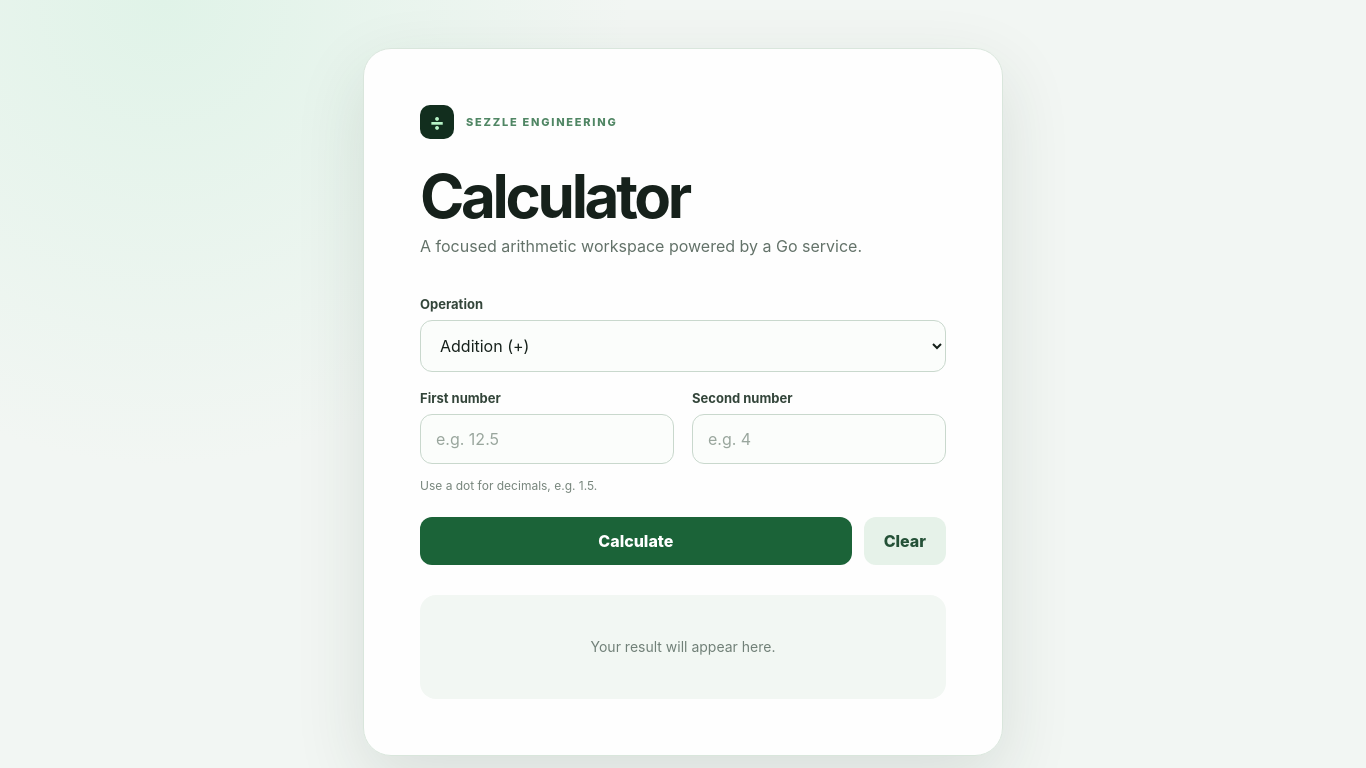
Calculator app › shows a friendly division by zero validation error
Type "10" into the field labelled "First number" at point(547, 439), box [420,414,674,464]
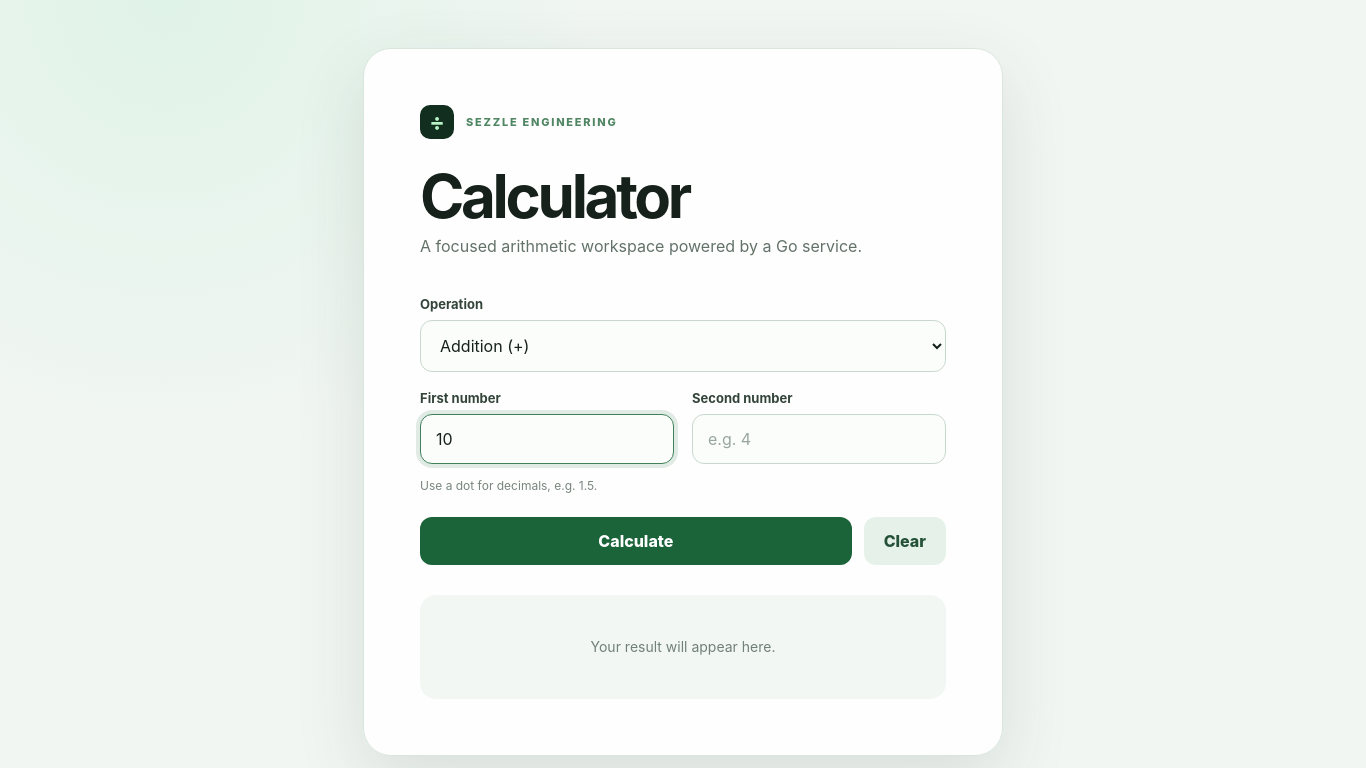
Type "0" into the field labelled "Second number" at point(819, 439), box [692,414,946,464]
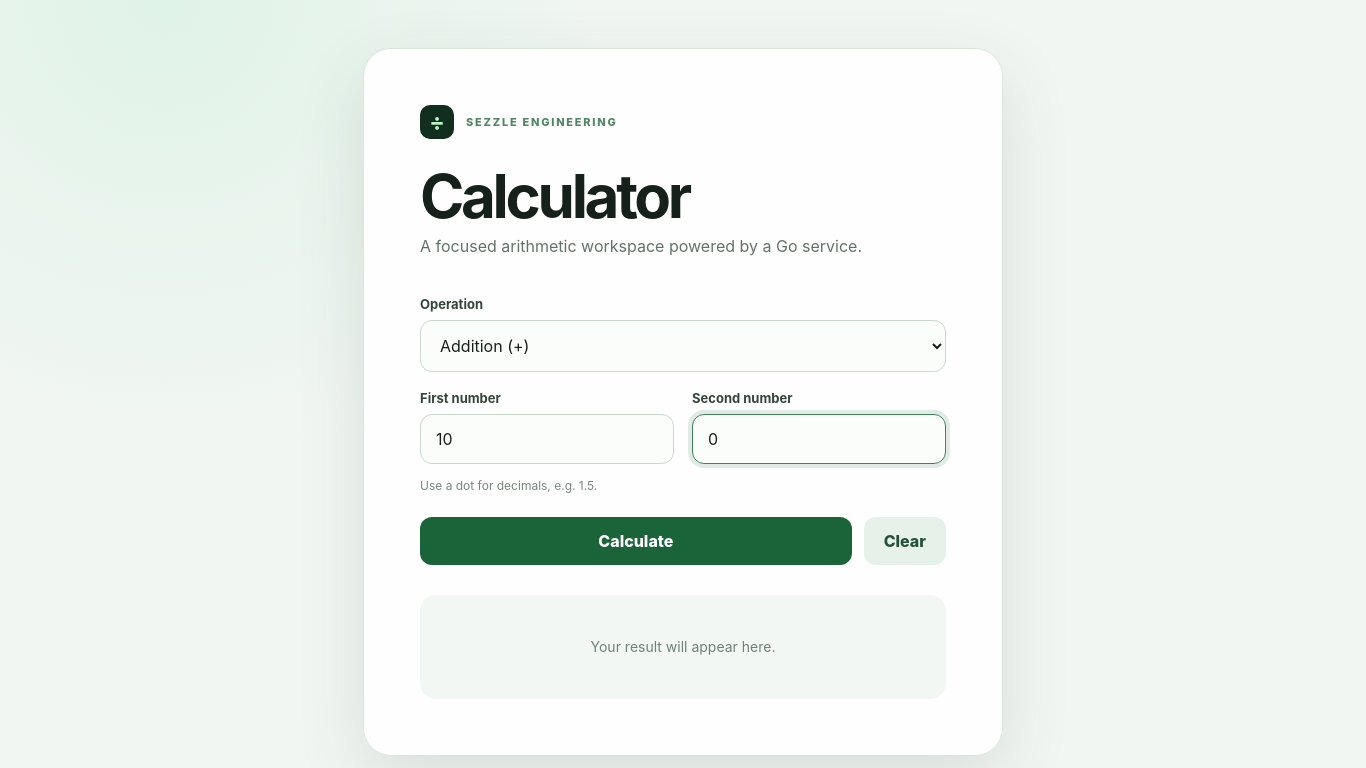
Select "Division (÷)" in the dropdown labelled "Operation" at point(683, 346), box [420,320,946,372]
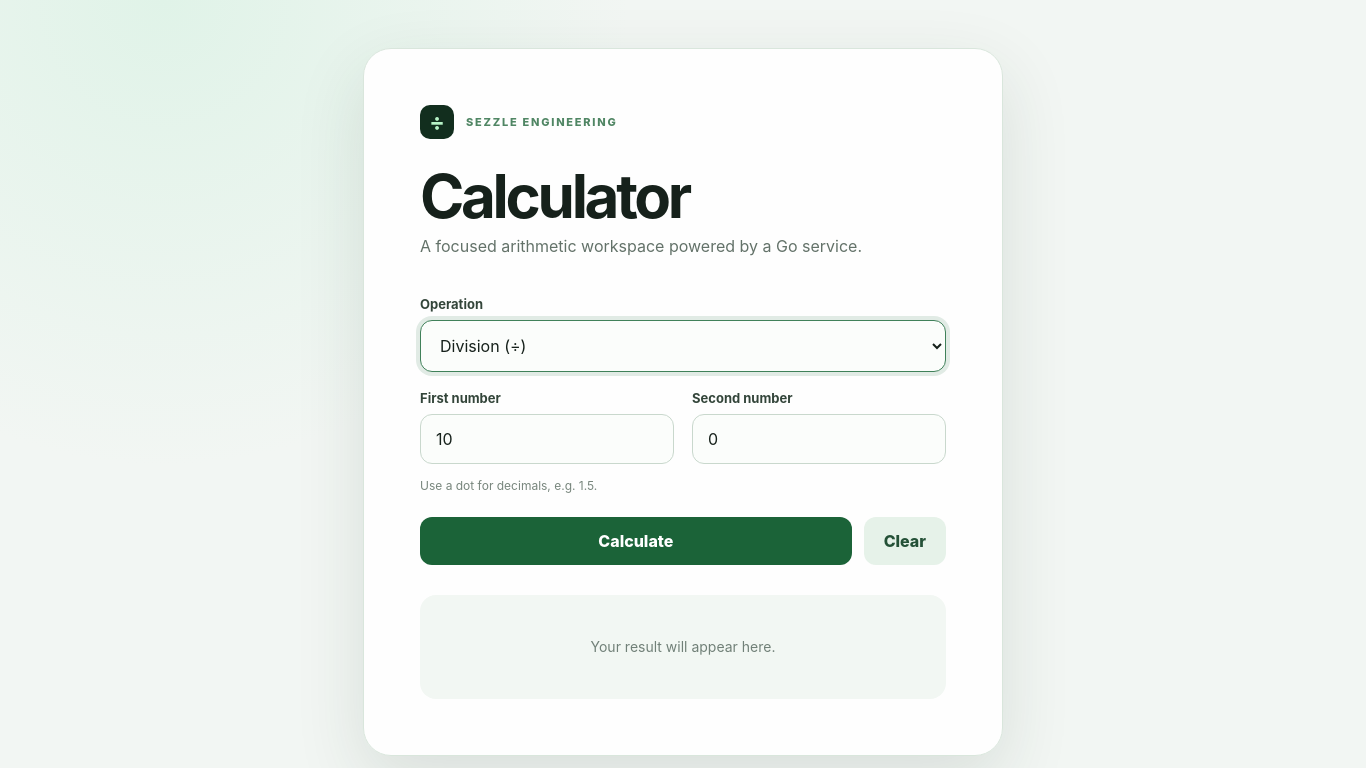
Click the button "Calculate" at point(636, 541), box [420,517,852,565]
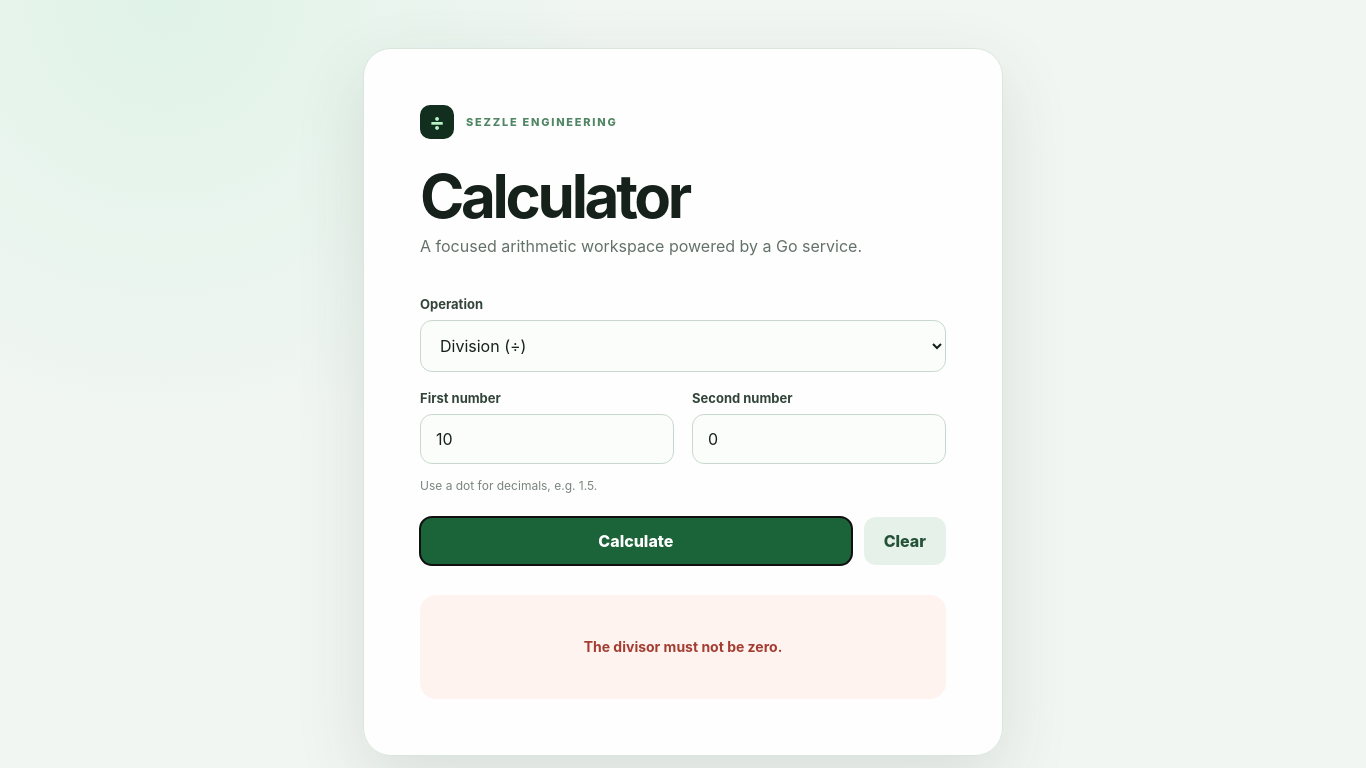
Now the message shows "divisor must not be zero", box [584,638,782,655]
